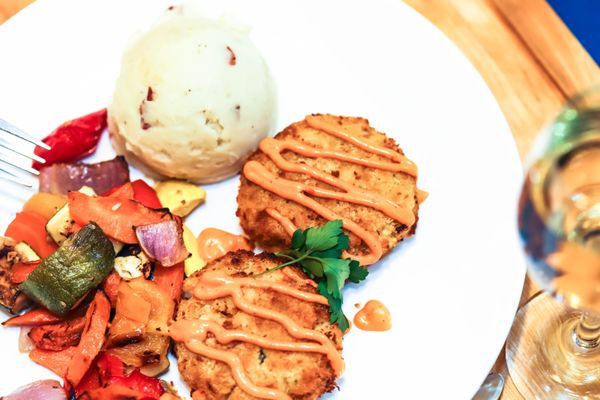soup: (235, 112, 425, 270)
